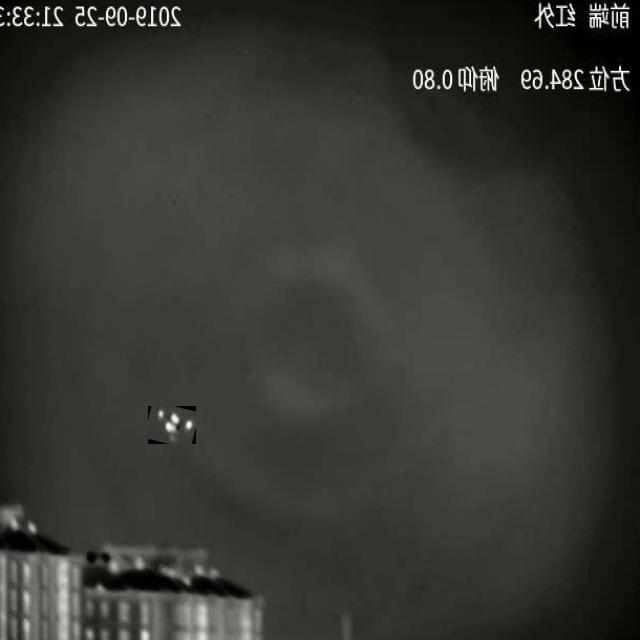drone: (148, 406, 196, 444)
